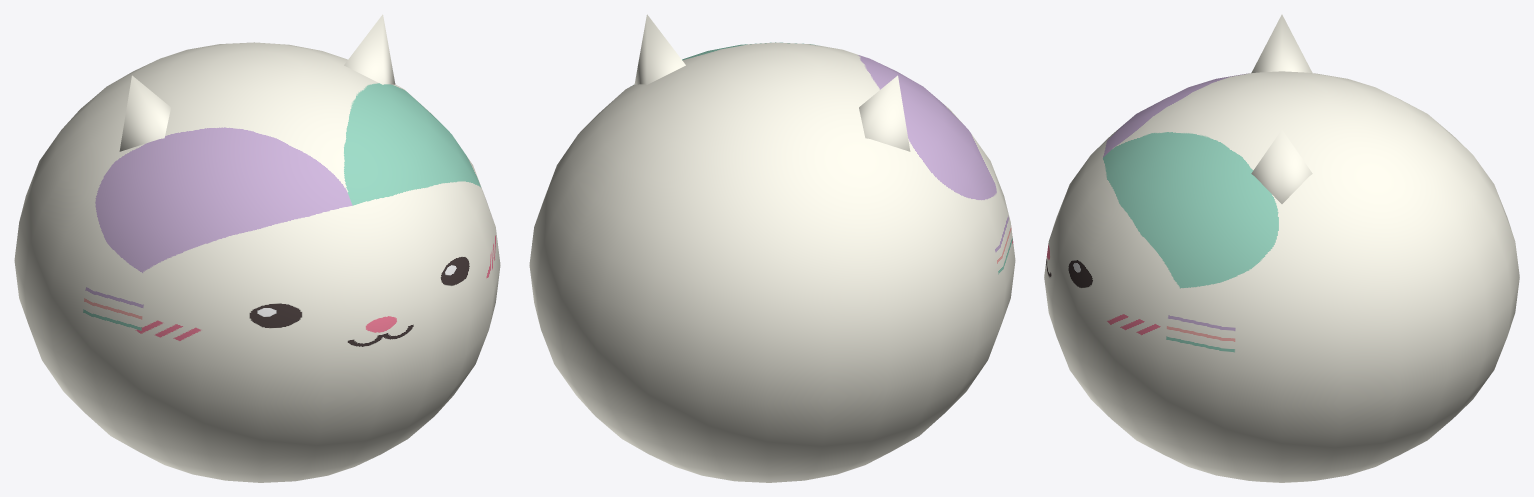
File: neko_cat.glb
3 renders of one model, left to right at view 1: azimuth 30°, elevation 25°; view 2: azimuth 150°, elevation 25°; view 3: azimuth 270°, elevation 25°, orthographic. The views are drawn at different scales.
Parts seen in each view (by area): view 1: Neko_Cat; view 2: Neko_Cat; view 3: Neko_Cat.
Part boxes in pixels (bbox=[...]): Neko_Cat: bbox=[14, 14, 500, 482]; Neko_Cat: bbox=[529, 14, 1015, 482]; Neko_Cat: bbox=[1044, 14, 1519, 482].
Bounding box in the file's own units: 1.33 × 1.26 × 1.4.
1 material, 1 textured.
